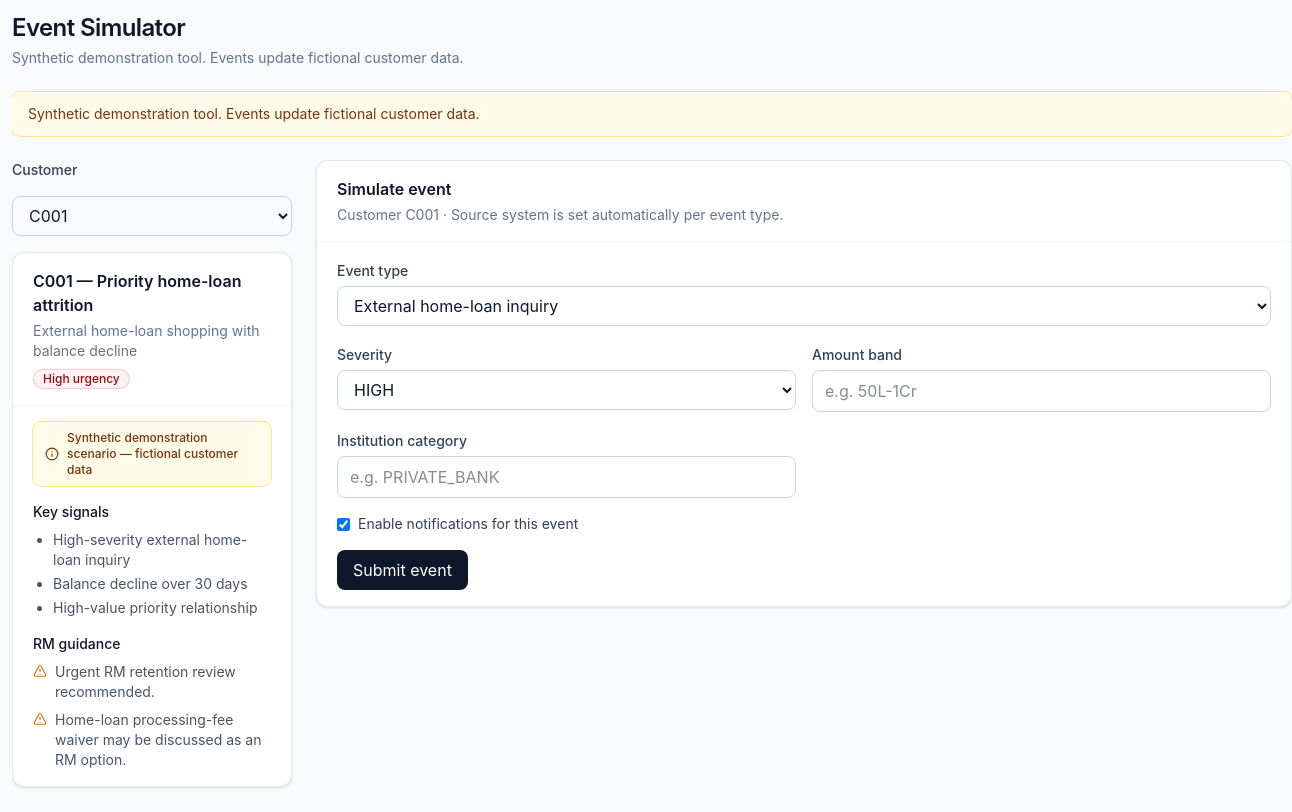
Event simulator › validates required fields client-side
Select "Investment transfer increase" in the dropdown labelled "Event type" at x=804, y=306, box [337,286,1271,326]
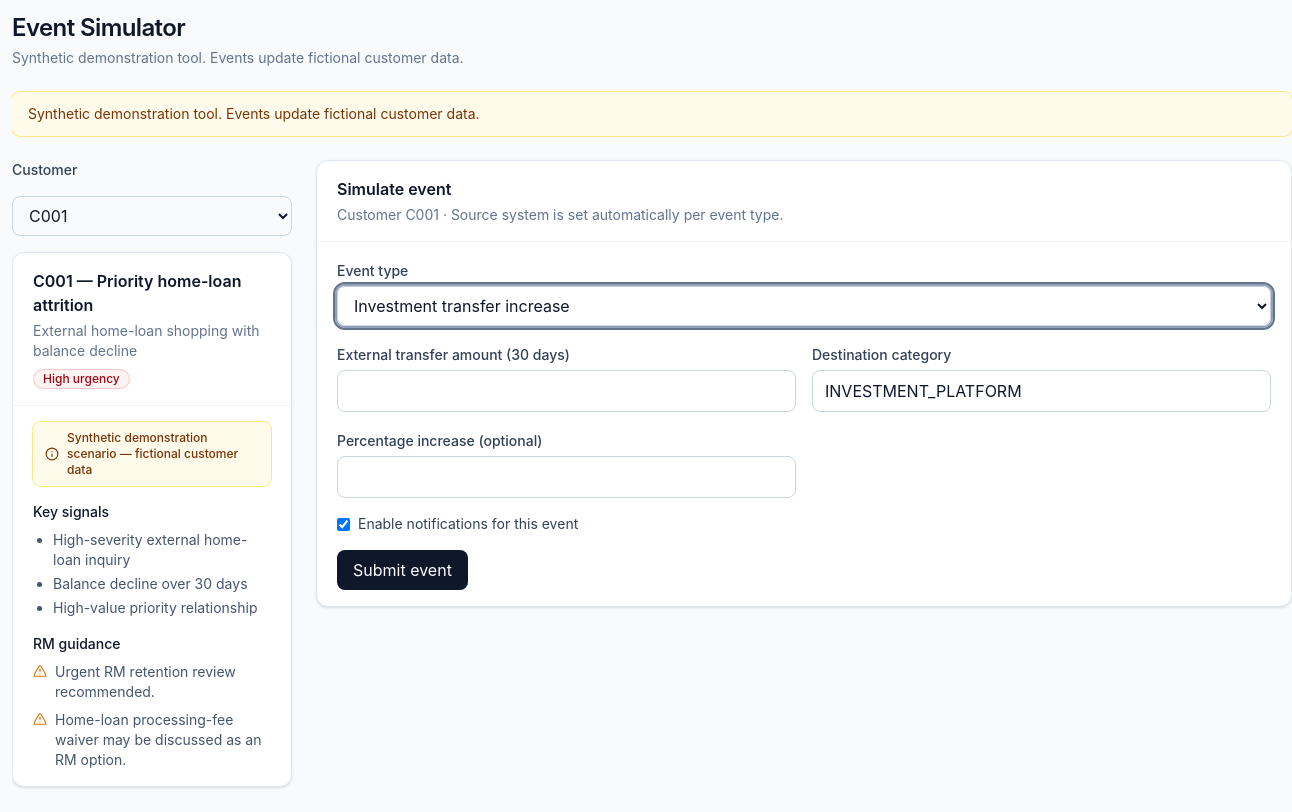
Click the button "Submit event" at x=402, y=570, box [337,550,468,590]
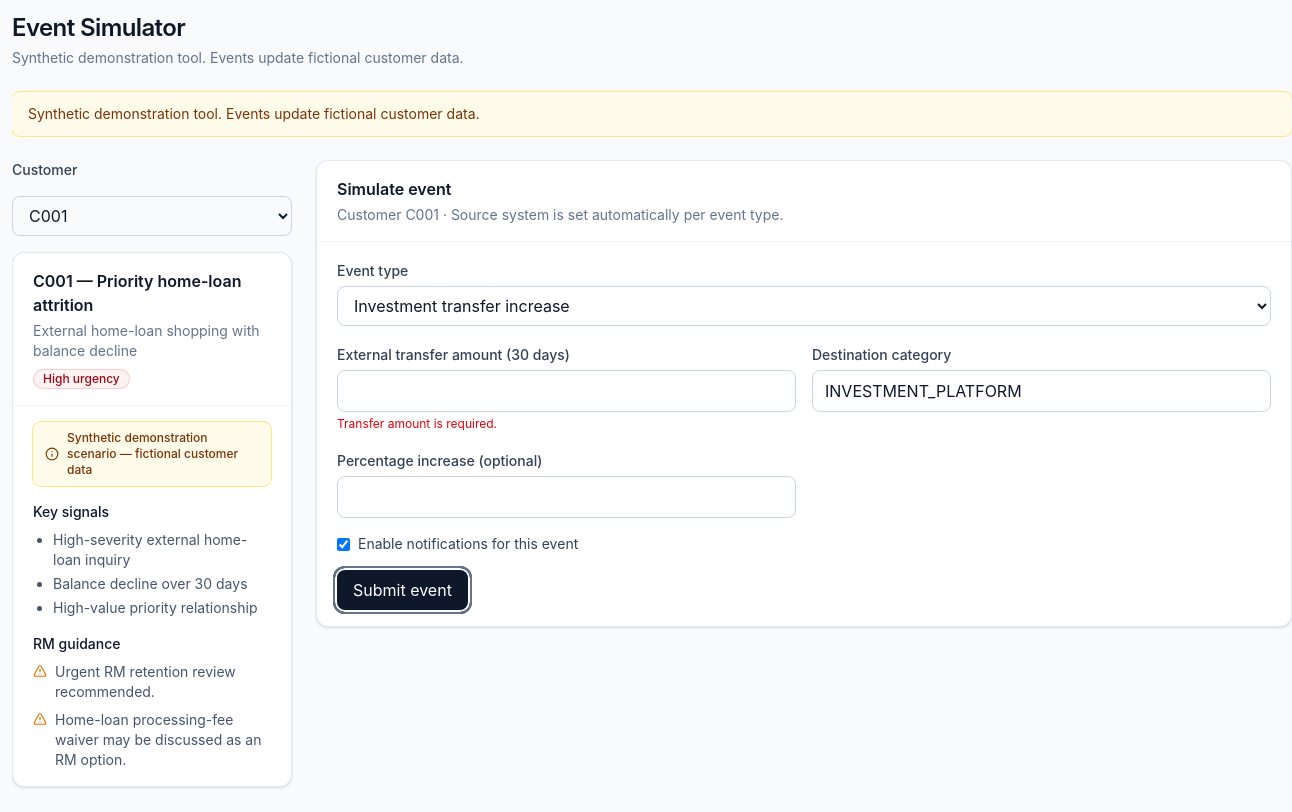
Expected: the text "Transfer amount is required." is shown, [337,416,497,431]
